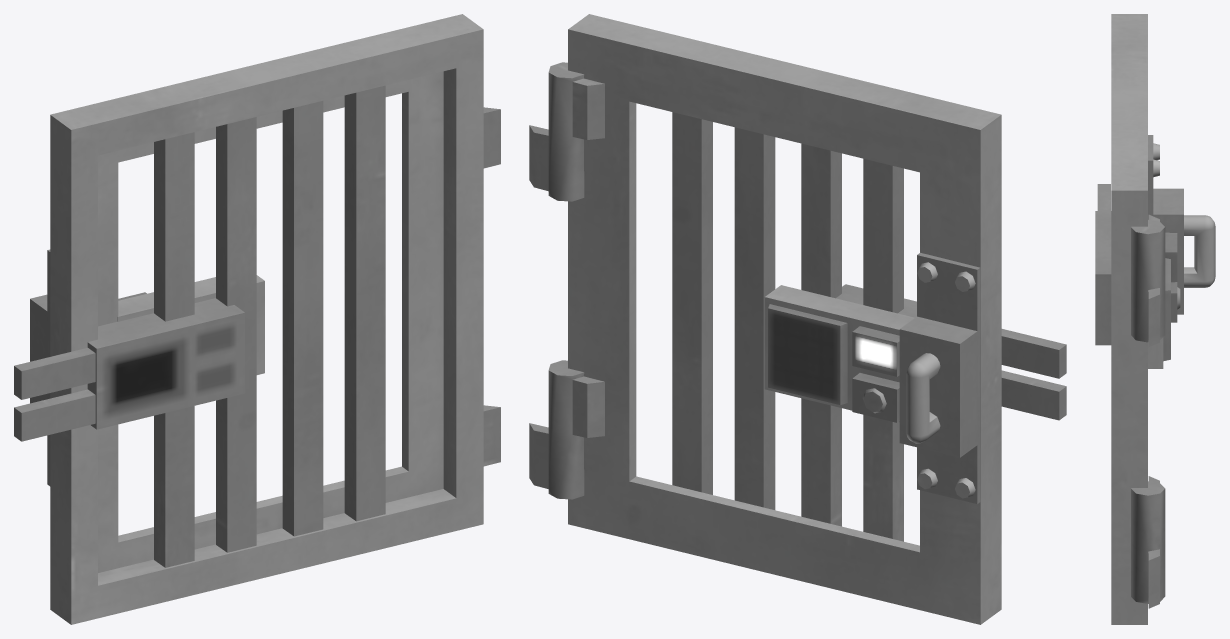
Rendered from Pfb_Prison_Cage4.fbx.
3 views of the same model, side by side, from view 1: azimuth 30°, elevation 25°; view 2: azimuth 150°, elevation 25°; view 3: azimuth 270°, elevation 25° (orthographic). The views are drawn at different scales.
Parts seen in each view (by area): view 1: Mat_Prison_Cage; view 2: Mat_Prison_Cage; view 3: Mat_Prison_Cage.
Boxes of the visible parts, x1=… form: Mat_Prison_Cage: x1=14, y1=14, x2=500, y2=624; Mat_Prison_Cage: x1=529, y1=14, x2=1066, y2=624; Mat_Prison_Cage: x1=1095, y1=14, x2=1215, y2=624.
Bounding box in the file's own units: 2.26 × 2.1 × 0.5264.
Materials: 1 (1 with a texture image).
